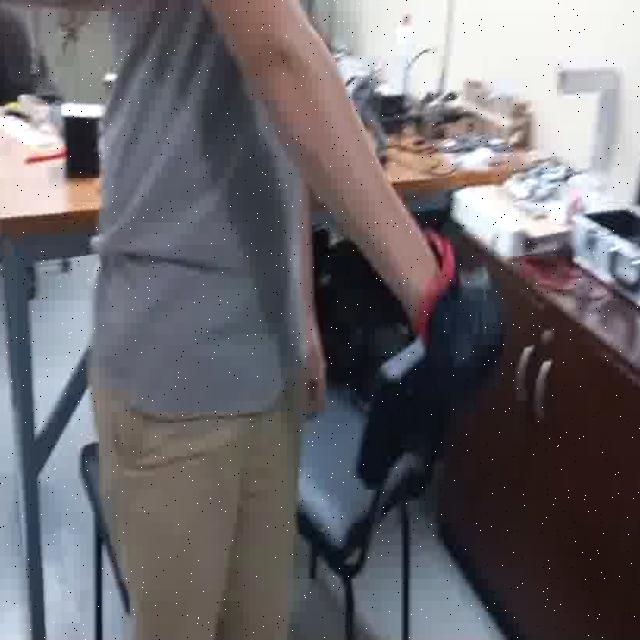Gloves: (405, 222, 497, 432)
